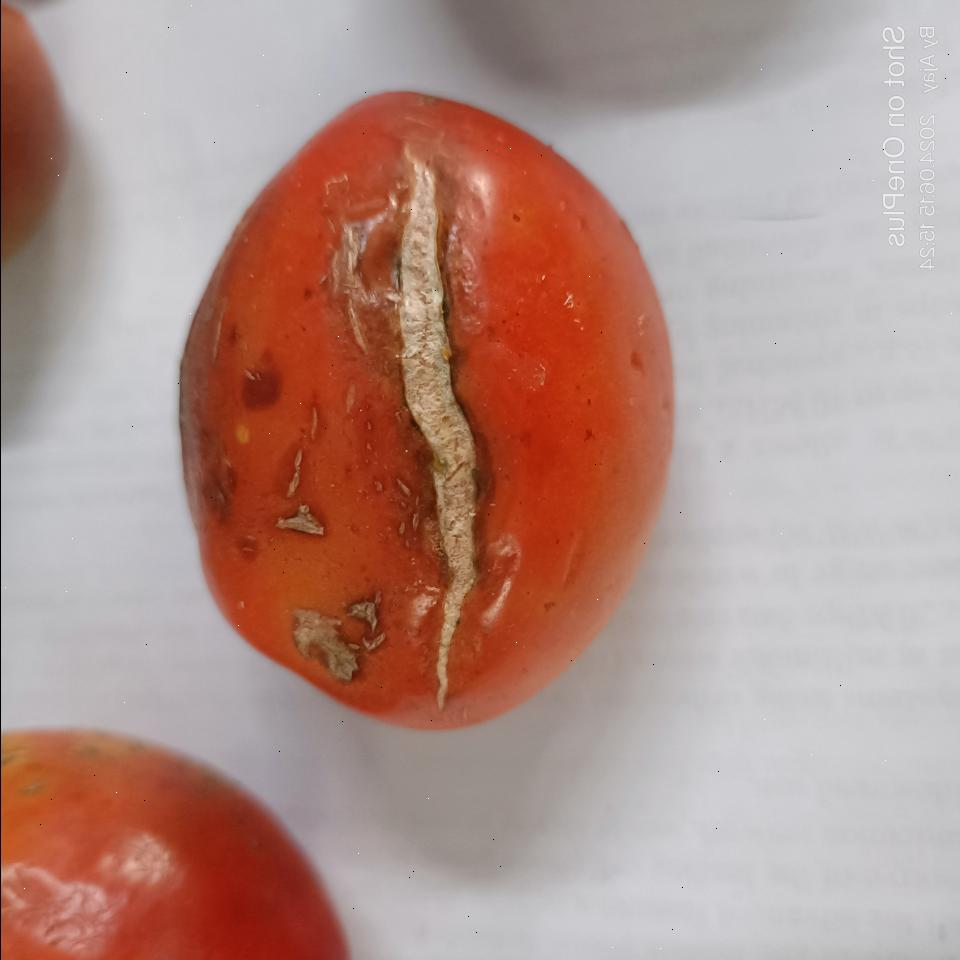Cracking: (376, 153, 489, 724)
